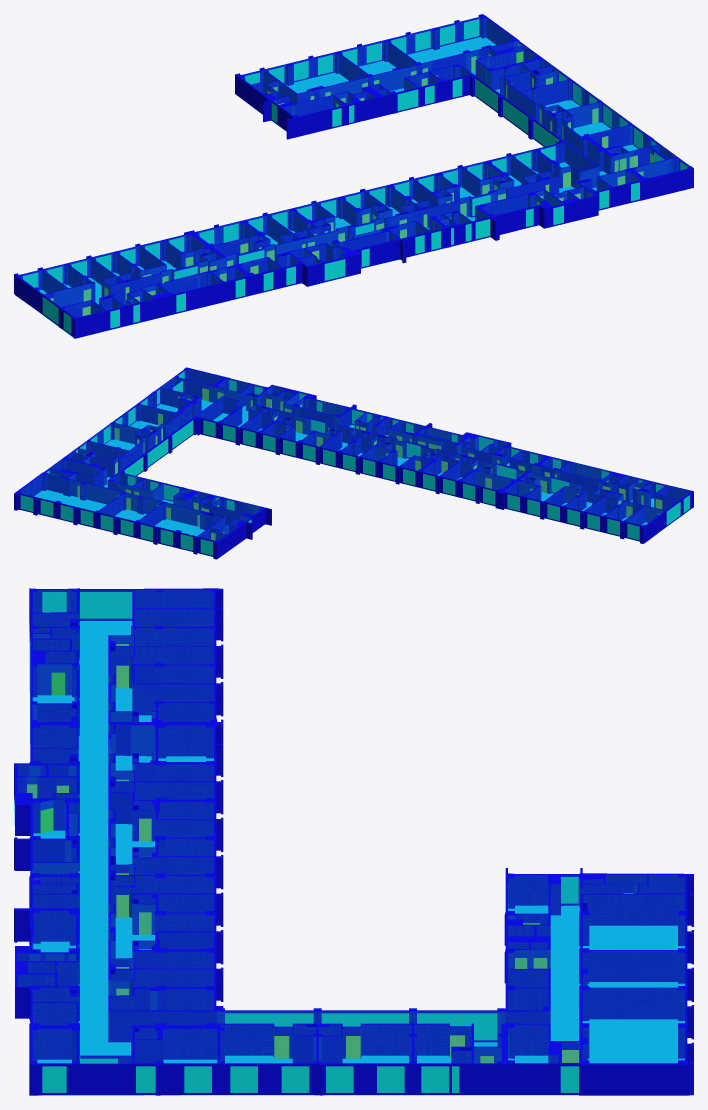
Rendered from floor_3.gltf.
3 renders of one model, top to bottom at view 1: azimuth 30°, elevation 25°; view 2: azimuth 150°, elevation 25°; view 3: azimuth 270°, elevation 25°, orthographic. The views are drawn at different scales.
Visible parts, largest first — view 1: group_solid_mesh, Room_3_32146_-16842, group_windows_mesh, group_ground_mesh, group_door_mesh, Room_3_62445_-52820, Room_3_40951_-11076, Room_3_40969_-52833, Room_3_23701_-10739, Room_3_-9420_-10976, Room_3_50695_-52833, Room_3_66540_-20408 (+15 smaller); view 2: group_solid_mesh, group_windows_mesh, Room_3_32146_-16842, group_ground_mesh, group_door_mesh, Room_3_62445_-52820, Room_3_40951_-11076, Room_3_40969_-52833, Room_3_23701_-10739, Room_3_-9420_-10976, Room_3_50695_-52833, Room_3_66540_-20408 (+16 smaller); view 3: group_solid_mesh, Room_3_32146_-16842, group_ground_mesh, group_windows_mesh, Room_3_62445_-52820, Room_3_40951_-11076, Room_3_40969_-52833, Room_3_23701_-10739, Room_3_-9420_-10976, group_door_mesh, Room_3_50695_-52833, Room_3_66540_-20408 (+27 smaller).
Boxes of the visible parts, left/top/right/bottom form: group_solid_mesh: left=14, top=14, right=693, bottom=338; Room_3_32146_-16842: left=45, top=48, right=665, bottom=309; group_windows_mesh: left=23, top=19, right=687, bottom=333; group_ground_mesh: left=39, top=37, right=639, bottom=337; group_door_mesh: left=50, top=51, right=653, bottom=315; Room_3_62445_-52820: left=390, top=18, right=513, bottom=62; Room_3_40951_-11076: left=393, top=156, right=534, bottom=205; Room_3_40969_-52833: left=266, top=53, right=366, bottom=92; Room_3_23701_-10739: left=309, top=186, right=412, bottom=234; Room_3_-9420_-10976: left=93, top=241, right=214, bottom=277; Room_3_50695_-52833: left=341, top=41, right=415, bottom=74; Room_3_66540_-20408: left=563, top=103, right=628, bottom=135; group_solid_mesh: left=14, top=367, right=693, bottom=559; group_windows_mesh: left=20, top=371, right=689, bottom=555; Room_3_32146_-16842: left=69, top=380, right=678, bottom=529; group_ground_mesh: left=34, top=400, right=692, bottom=536; group_door_mesh: left=51, top=388, right=662, bottom=540; Room_3_62445_-52820: left=20, top=474, right=120, bottom=510; Room_3_40951_-11076: left=242, top=411, right=358, bottom=450; Room_3_40969_-52833: left=140, top=503, right=222, bottom=535; Room_3_23701_-10739: left=343, top=436, right=453, bottom=465; Room_3_-9420_-10976: left=520, top=476, right=603, bottom=510; Room_3_50695_-52833: left=100, top=493, right=160, bottom=520; Room_3_66540_-20408: left=114, top=405, right=178, bottom=428; group_solid_mesh: left=14, top=588, right=693, bottom=1095; Room_3_32146_-16842: left=33, top=590, right=637, bottom=1055; group_ground_mesh: left=14, top=621, right=684, bottom=1095; group_windows_mesh: left=32, top=592, right=578, bottom=1092; Room_3_62445_-52820: left=583, top=988, right=684, bottom=1062; Room_3_40951_-11076: left=111, top=876, right=213, bottom=968; Room_3_40969_-52833: left=583, top=895, right=684, bottom=949; Room_3_23701_-10739: left=111, top=793, right=213, bottom=874; Room_3_-9420_-10976: left=111, top=647, right=213, bottom=721; group_door_mesh: left=27, top=644, right=633, bottom=1063; Room_3_50695_-52833: left=583, top=951, right=684, bottom=987; Room_3_66540_-20408: left=220, top=1025, right=315, bottom=1062.
Bounding box in the file's own units: 99099 × 3000 × 59799.
